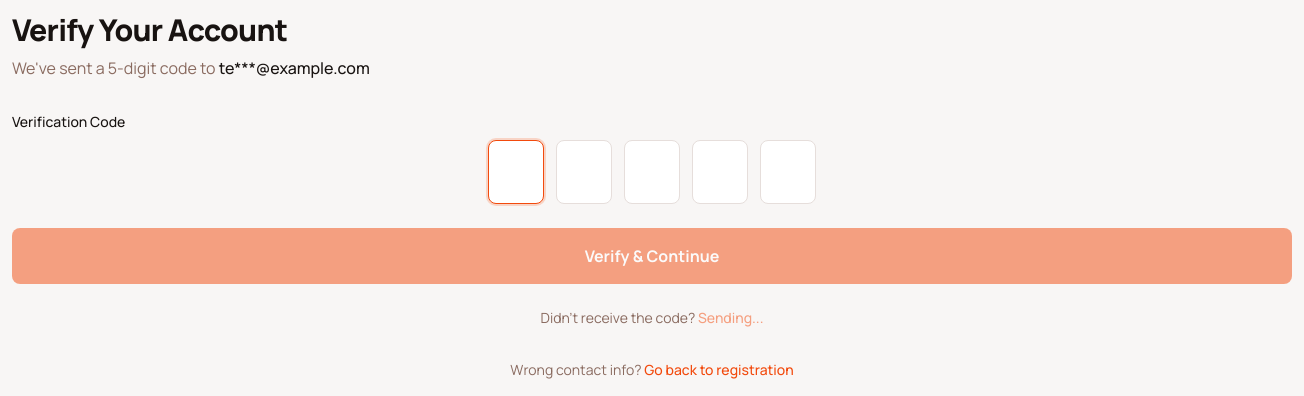
Test: VerifyPage › form submission › shows loading state during verification
// Fill OTP using fireEvent.change
Type "12345" into the field with test id "verify-otp-input-0".
click(516, 172); type("12345")  # box [488,140,544,204]
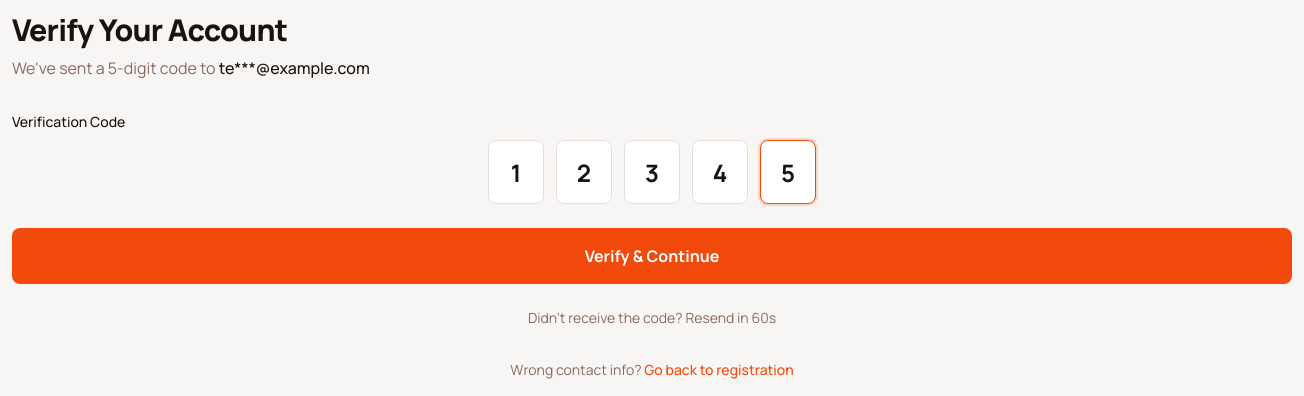
Click the button with test id "verify-submit-button".
click(652, 256)  # box [12,228,1292,284]
Wait 1500 ms
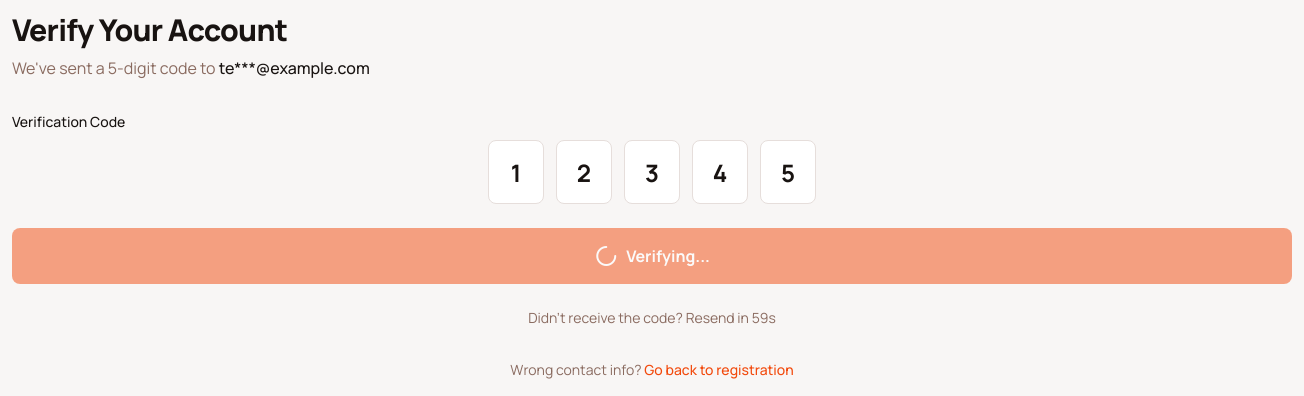
Result: the button with test id "verify-submit-button" is disabled at [12,228,1292,284]
